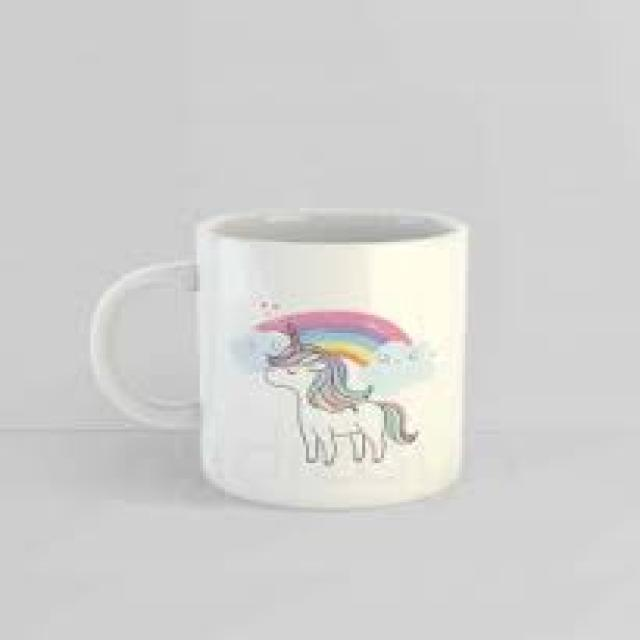taza: (90, 205, 470, 510)
